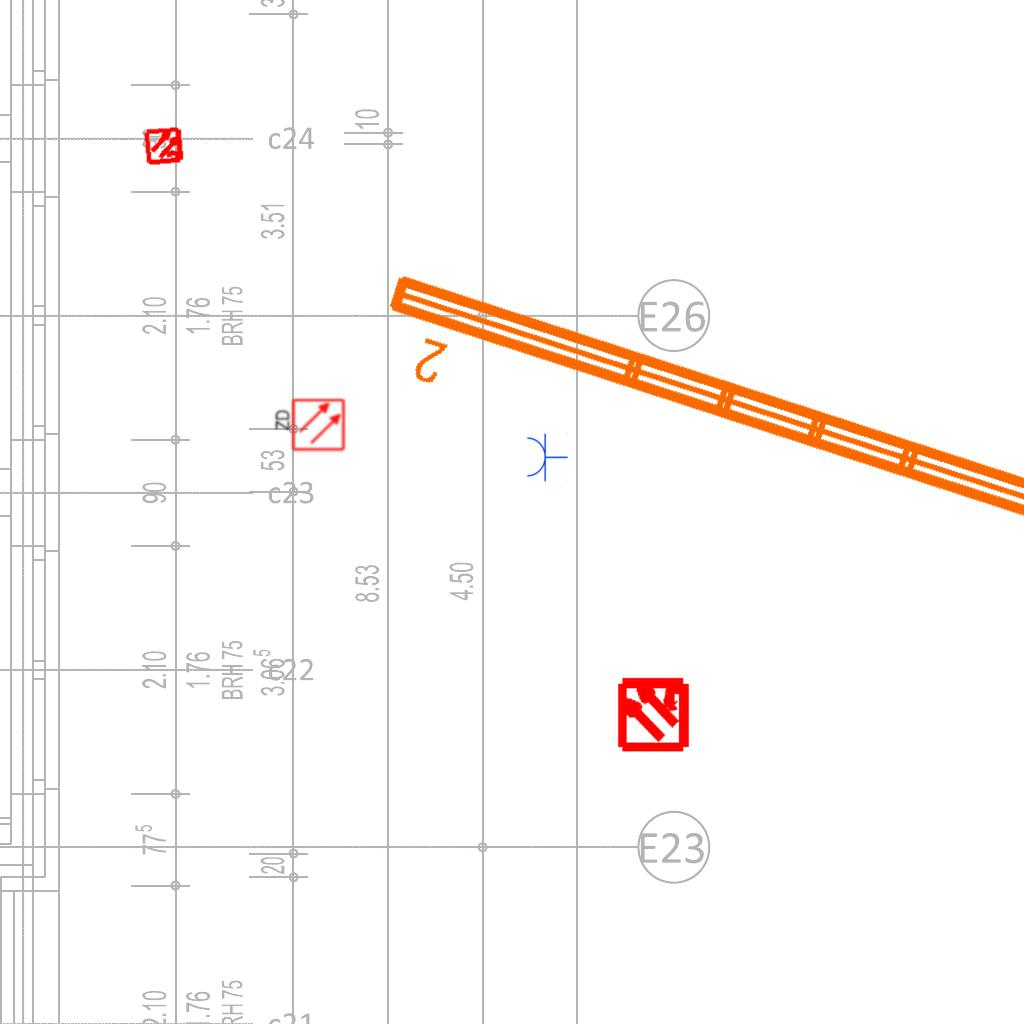Ambulanz_Pendelleuchte_LED: (360, 260, 1024, 606)
OT_Multisensormelder_(Kombination_RMO_WMD): (597, 656, 710, 769), (134, 115, 196, 177)
Schukosteckdose_einfach: (525, 432, 568, 482)
ZD_Melder_in_Zwischendecke_mit_Revisionsoeffnung_mind_40_x_40_cm: (272, 397, 346, 454)
